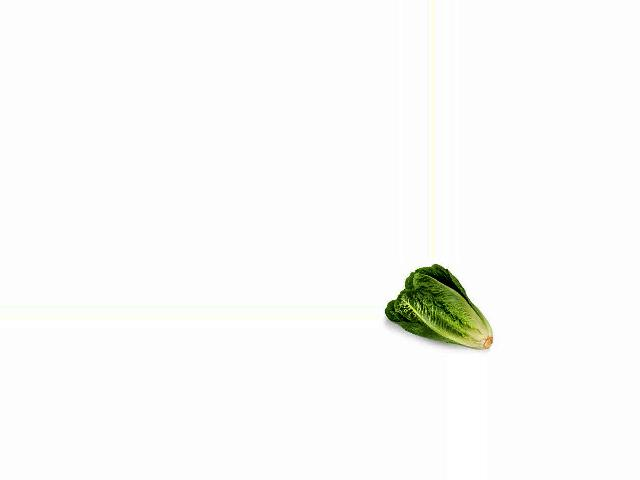lettuce: (385, 264, 494, 351)
